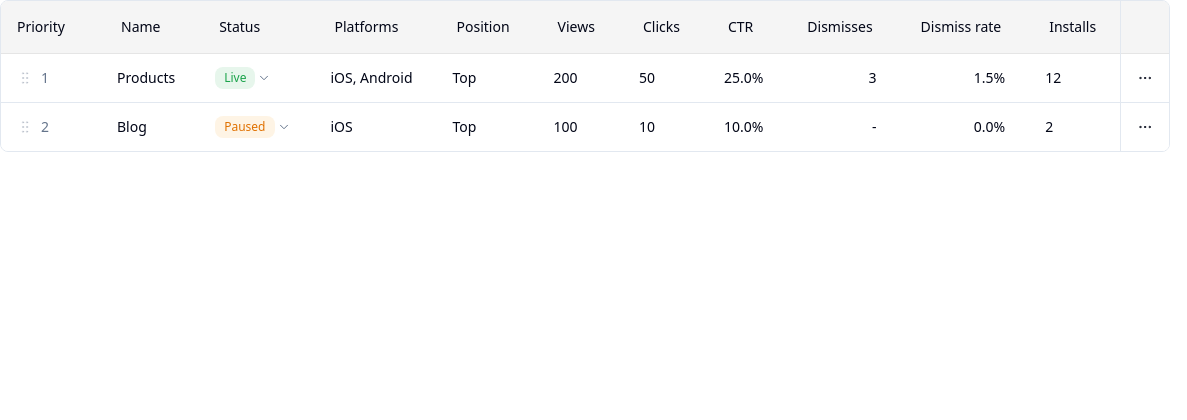
Test: SmartBannersTable › disables Move to top and bottom while filtered, with the hint
Click the button named "Actions for Blog" at (1145, 127), box [1129, 111, 1161, 143]
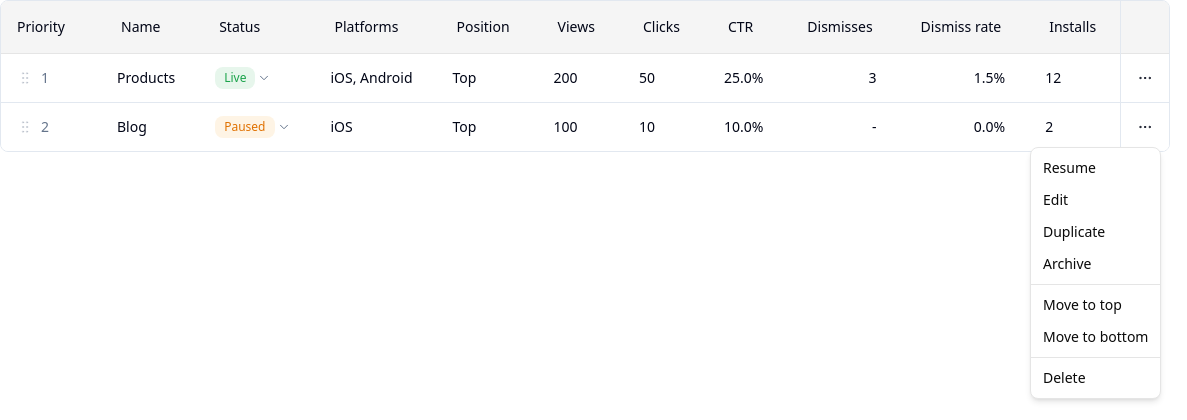
Hover over the element showing "Move to top" at (1082, 304), box [1043, 295, 1122, 314]
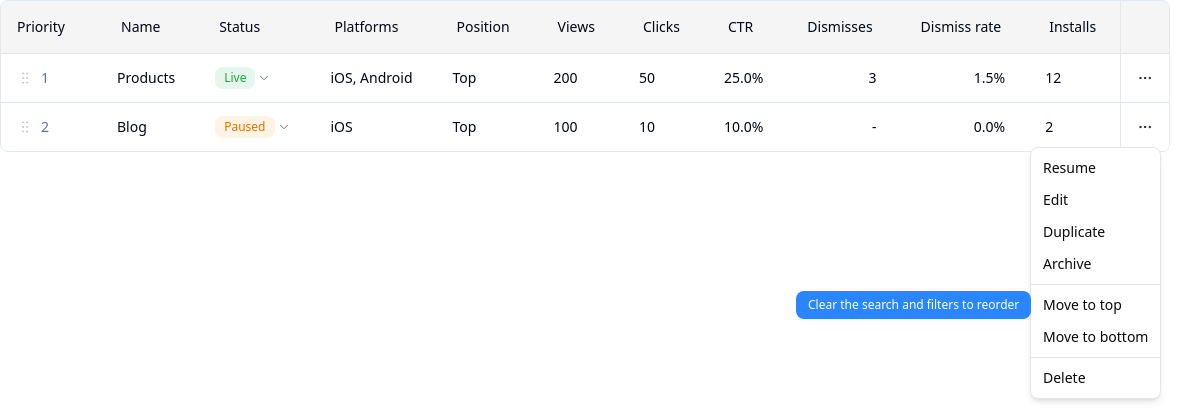
Result: the tooltip "Clear the search and filters to reorder" is shown at [796, 291, 1031, 319]
